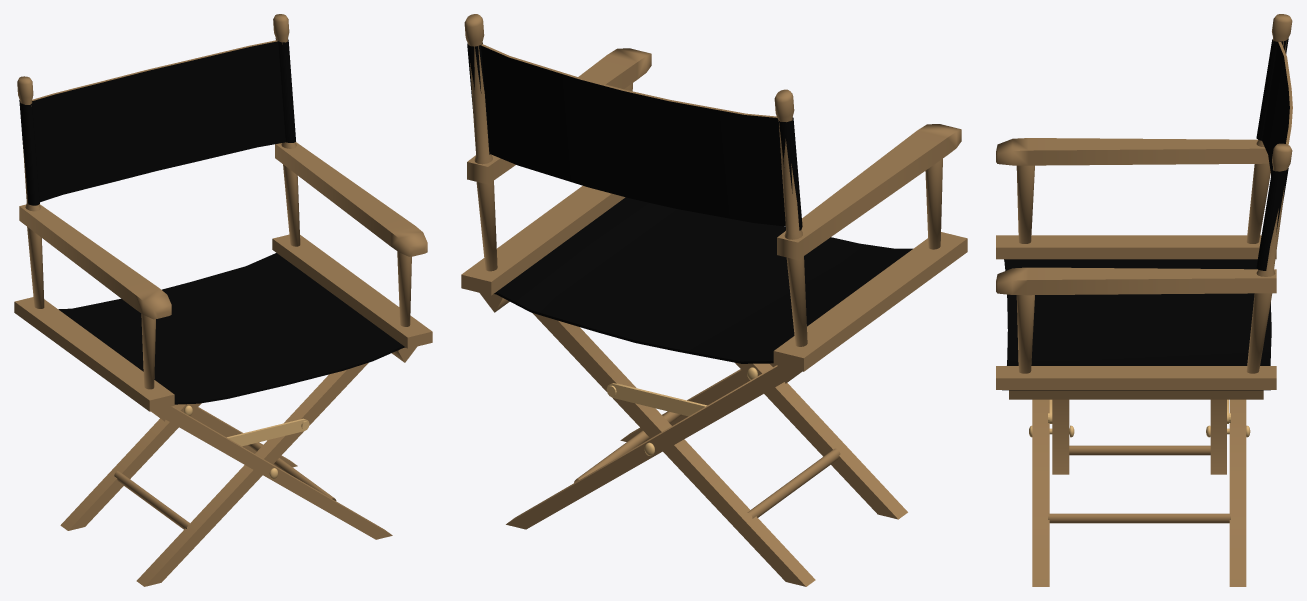
File: Directors Chair.fbx
3 views of the same model, side by side, from view 1: azimuth 30°, elevation 25°; view 2: azimuth 150°, elevation 25°; view 3: azimuth 270°, elevation 25° (orthographic). The views are drawn at different scales.
Visible parts, largest first — view 1: Cube.002; view 2: Cube.002; view 3: Cube.002.
Boxes of the visible parts, bbox=[...] form: Cube.002: bbox=[14, 14, 432, 586]; Cube.002: bbox=[461, 14, 967, 586]; Cube.002: bbox=[996, 14, 1292, 586].
Bounding box in the file's own units: 50.01 × 72.62 × 43.81.
